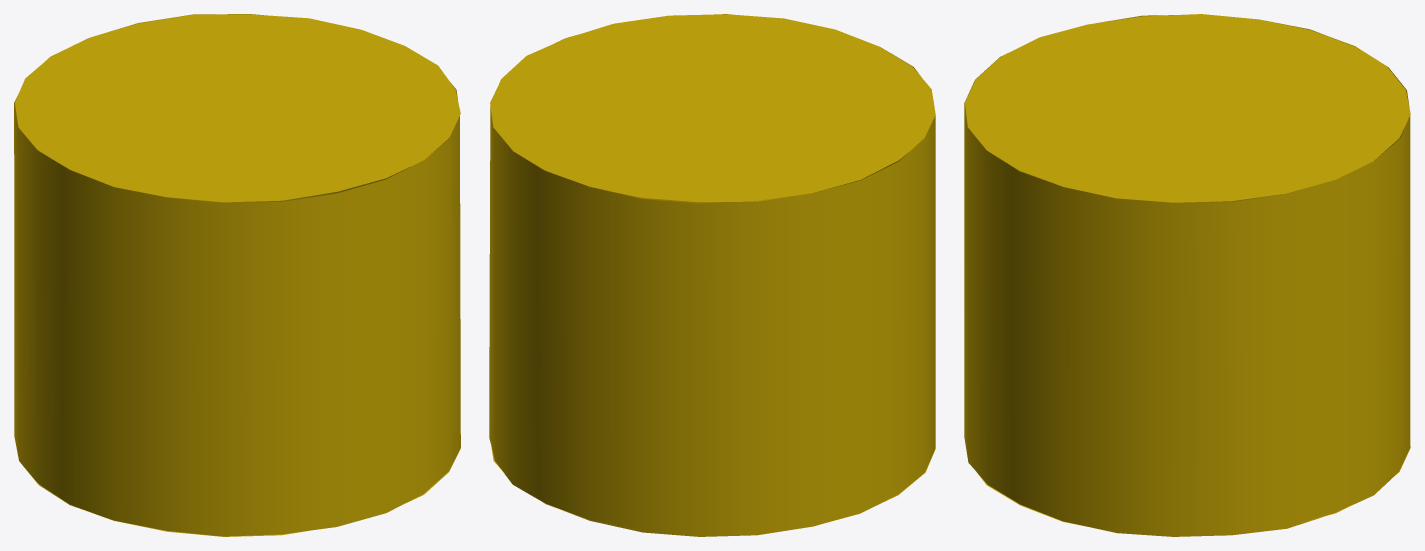
The model's file is original_13.obj.
The picture shows the model from 3 angles, left to right: view 1: azimuth 30°, elevation 25°; view 2: azimuth 150°, elevation 25°; view 3: azimuth 270°, elevation 25°; orthographic projection.
Parts seen in each view (by area): view 1: group_12/ID90#ID90; view 2: group_12/ID90#ID90; view 3: group_12/ID90#ID90.
Boxes of the visible parts, x1,y1,x2,y2 form: group_12/ID90#ID90: (14,14,460,536); group_12/ID90#ID90: (489,14,935,536); group_12/ID90#ID90: (964,14,1410,536).
Size of the model in its own units: 0.077 by 0.0639 by 0.0769.
